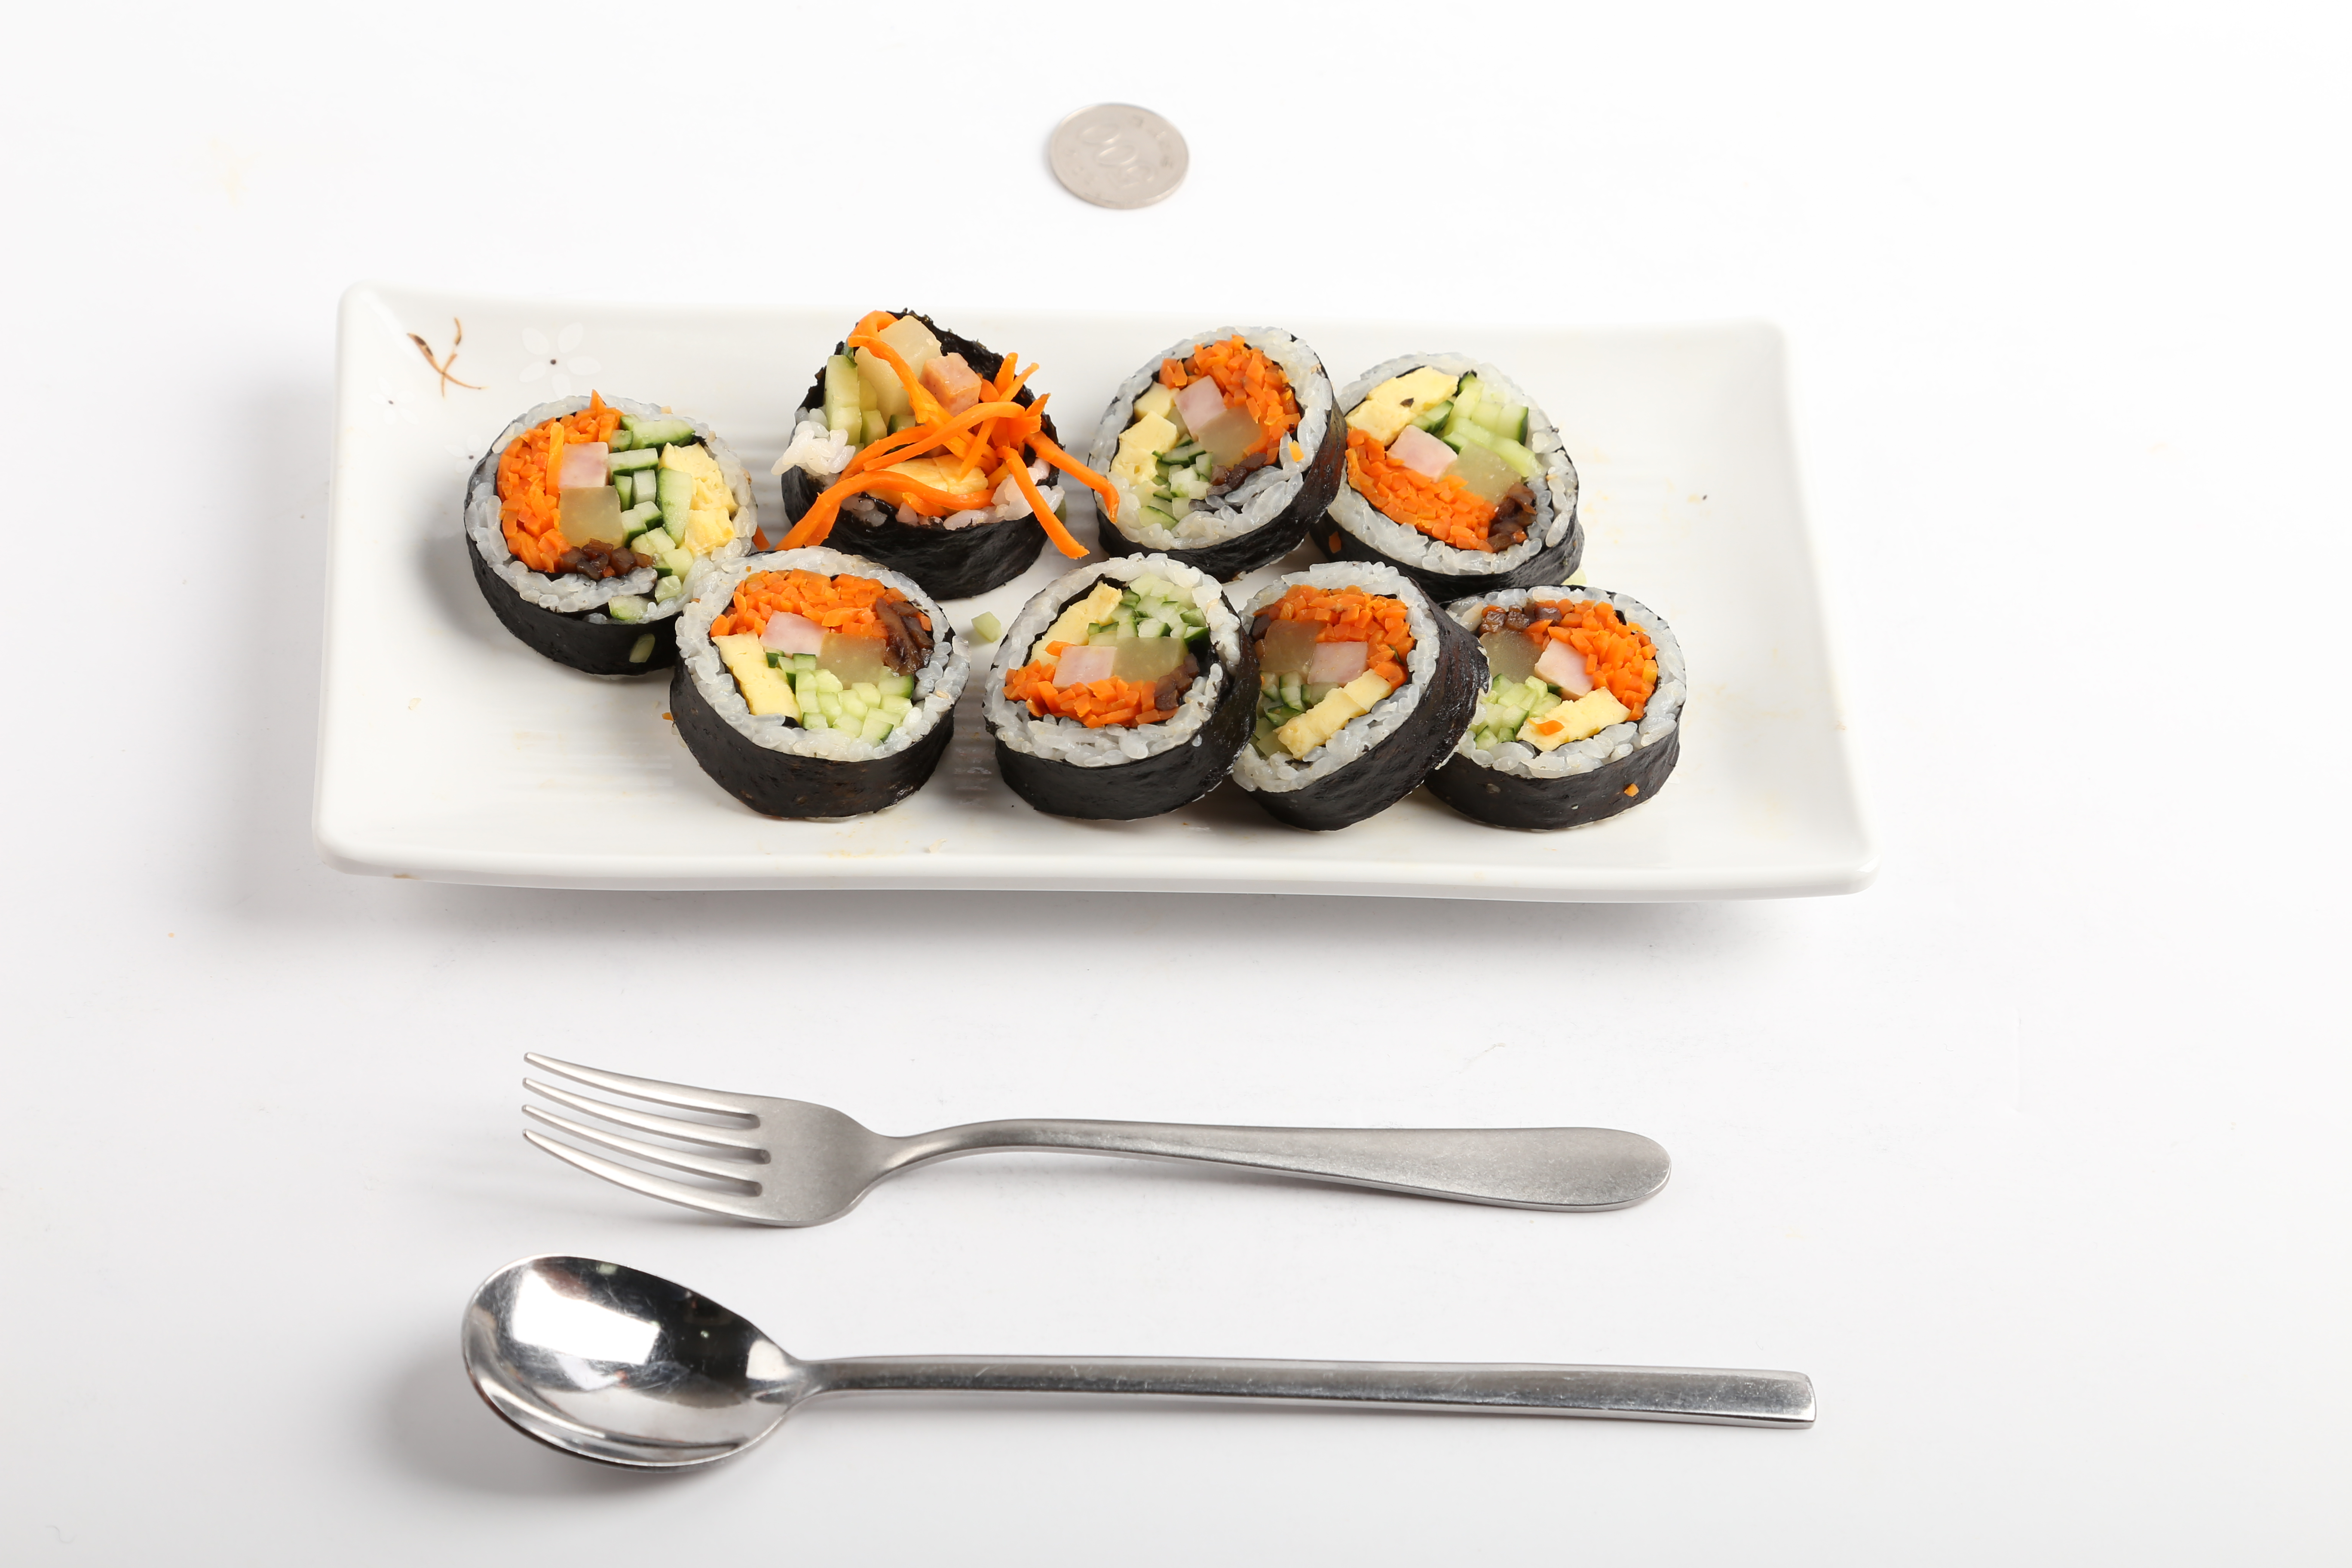dish: (313, 275, 1872, 913)
ref_coin: (1043, 89, 1195, 213)
ref_fork: (511, 1038, 943, 1235)
ref_spoon: (460, 1246, 877, 1473)
김밥: (458, 306, 1692, 838)
